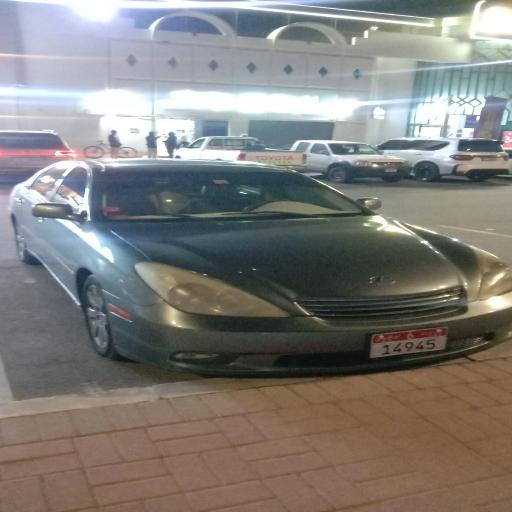license-plates: (370, 327, 449, 358)
